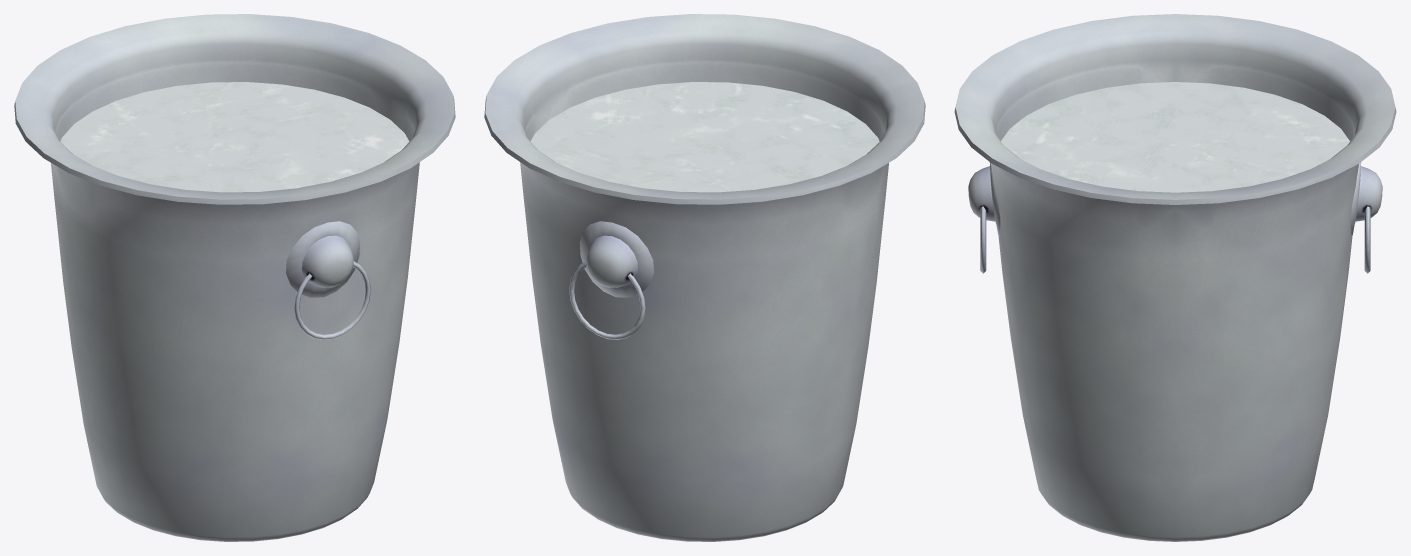
Rendered from IceBucket01_2_2.FBX.
3 renders of one model, left to right at view 1: azimuth 30°, elevation 25°; view 2: azimuth 150°, elevation 25°; view 3: azimuth 270°, elevation 25°, orthographic.
Parts seen in each view (by area): view 1: IceBucket02_2; view 2: IceBucket02_2; view 3: IceBucket02_2.
Boxes of the visible parts, left/top/right/bottom form: IceBucket02_2: left=14, top=14, right=455, bottom=541; IceBucket02_2: left=484, top=14, right=925, bottom=541; IceBucket02_2: left=954, top=14, right=1396, bottom=541.
Bounding box in the file's own units: 24.7 × 23.4 × 24.7.
